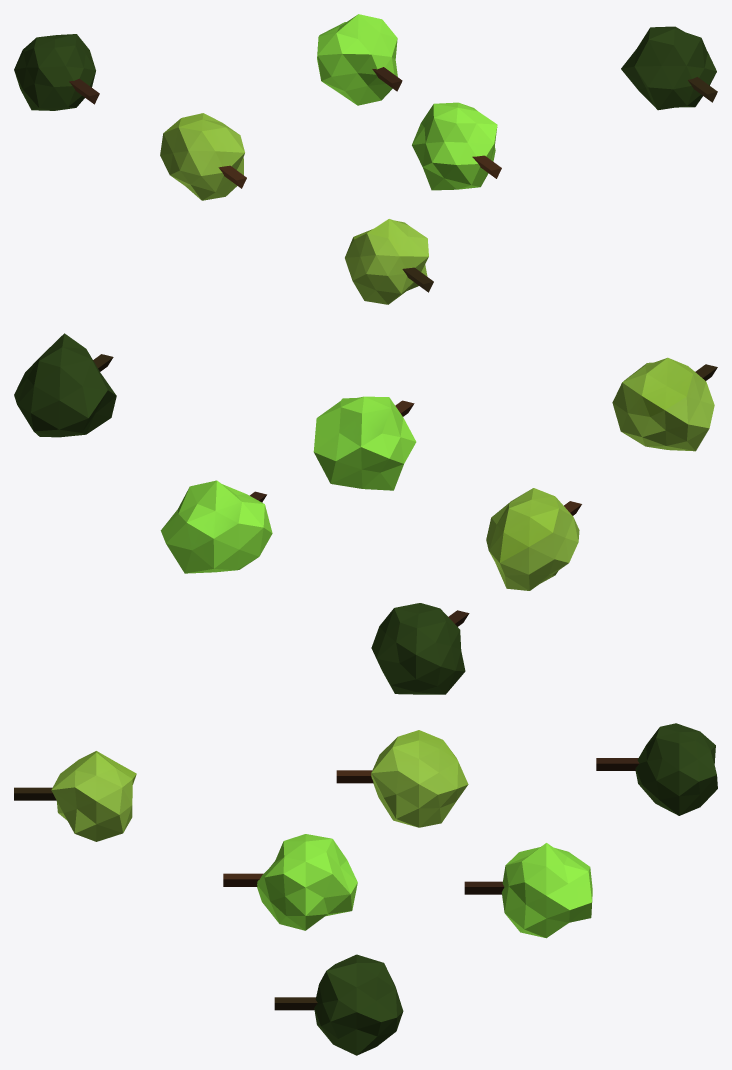
The model's file is drzewa.fbx.
3 renders of one model, top to bottom at view 1: azimuth 30°, elevation 25°; view 2: azimuth 150°, elevation 25°; view 3: azimuth 270°, elevation 25°, orthographic. The views are drawn at different scales.
Parts seen in each view (by area): view 1: drzewo.002, drzewo.005, drzewo, drzewo.004, drzewo.003, drzewo.001; view 2: drzewo.002, drzewo.005, drzewo.003, drzewo, drzewo.004, drzewo.001; view 3: drzewo.002, drzewo.004, drzewo.005, drzewo, drzewo.001, drzewo.003.
Part boxes in pixels (x1,y1,x2,y2): drzewo.002: (412,102,501,190); drzewo.005: (317,14,402,105); drzewo: (621,26,717,110); drzewo.004: (160,113,246,200); drzewo.003: (345,219,433,304); drzewo.001: (14,34,99,110); drzewo.002: (313,396,416,490); drzewo.005: (160,480,272,573); drzewo.003: (612,357,717,451); drzewo: (14,333,116,437); drzewo.004: (486,488,581,590); drzewo.001: (371,603,469,694); drzewo.002: (223,834,357,930); drzewo.004: (336,730,468,827); drzewo.005: (464,843,592,938); drzewo: (274,954,403,1055); drzewo.001: (596,723,717,815); drzewo.003: (14,751,136,841).
Size of the model in its own units: 333 by 51.78 by 362.
Materials: 1 (1 with a texture image).
